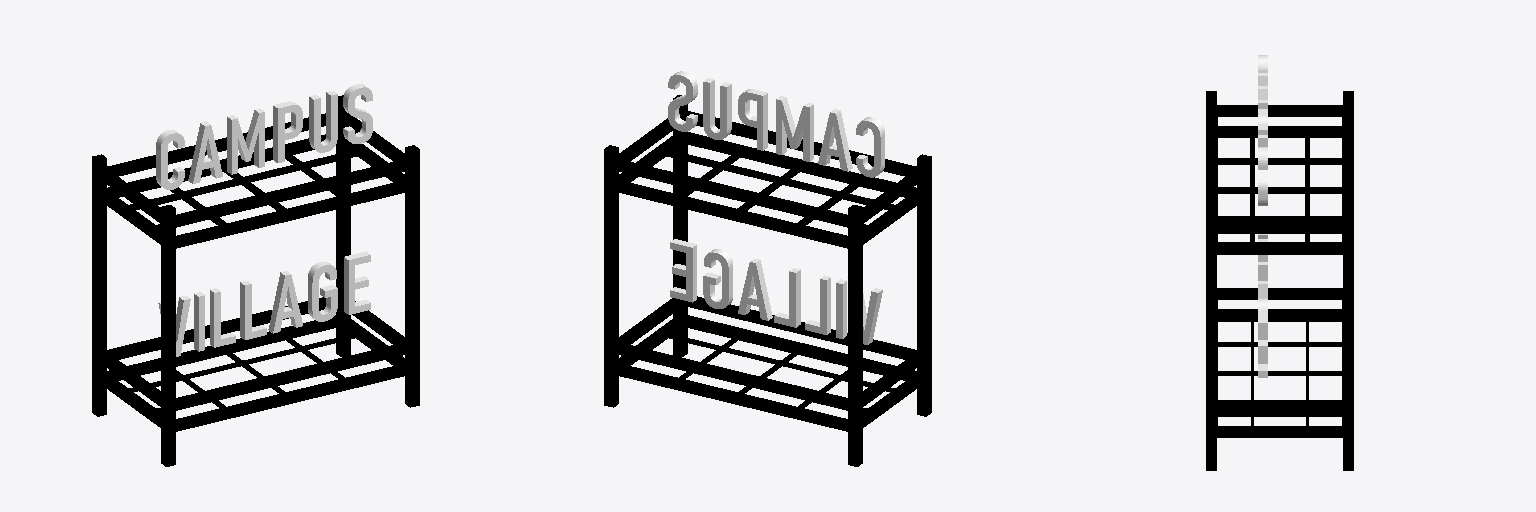
3 views of the same model, side by side, from view 1: azimuth 30°, elevation 25°; view 2: azimuth 150°, elevation 25°; view 3: azimuth 270°, elevation 25° (orthographic).
Visible parts, largest first — view 1: bed_HULL_geo, text4, bed_FULL_geo; view 2: bed_HULL_geo, text4, bed_FULL_geo; view 3: bed_HULL_geo, text4, bed_FULL_geo.
Part boxes in pixels (left/top/right/bottom): bed_HULL_geo: left=92, top=95, right=419, bottom=466; text4: left=156, top=84, right=372, bottom=356; bed_FULL_geo: left=129, top=333, right=357, bottom=411; bed_HULL_geo: left=604, top=95, right=931, bottom=466; text4: left=668, top=71, right=884, bottom=344; bed_FULL_geo: left=666, top=333, right=894, bottom=411; bed_HULL_geo: left=1206, top=91, right=1353, bottom=470; text4: left=1258, top=55, right=1267, bottom=377; bed_FULL_geo: left=1218, top=316, right=1341, bottom=425.
Bounding box in the file's own units: 21.31 × 24.64 × 10.81.